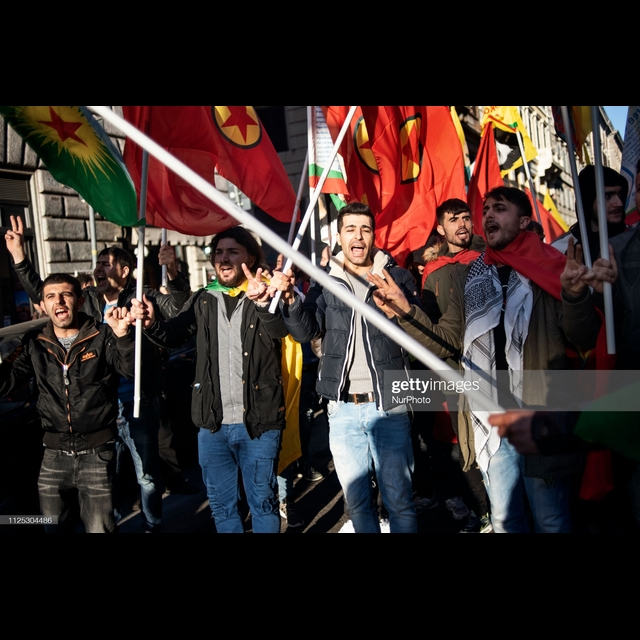KCK: (20, 105, 123, 181)
PKK: (209, 105, 266, 150)
ZI: (561, 233, 588, 297), (2, 211, 28, 264)
